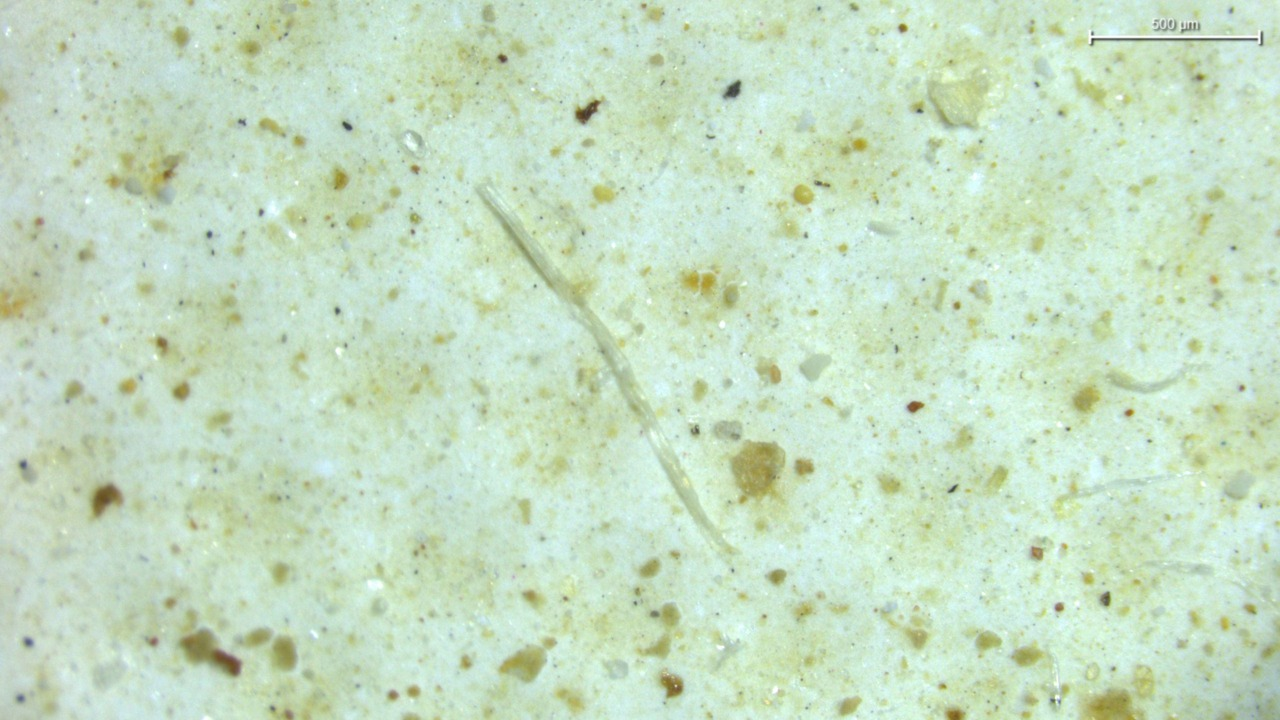microplastic_fragment: (927, 69, 992, 126), (800, 354, 831, 381)
